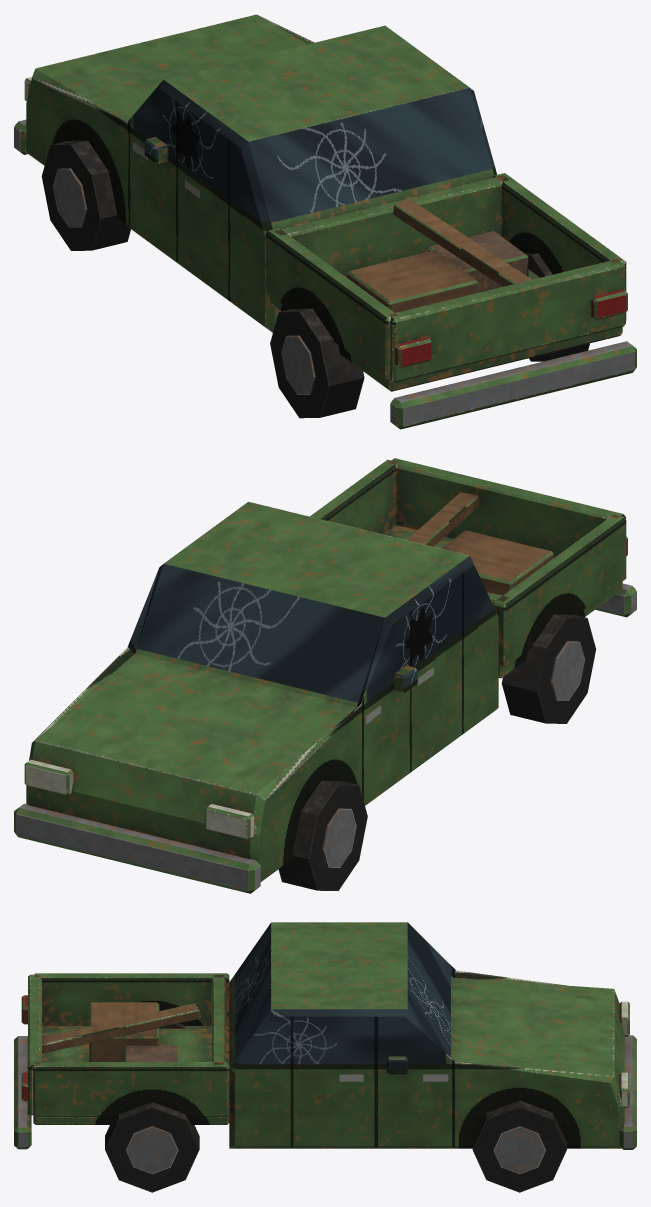
The model's file is Pickup_Abandonada.glb.
3 renders of one model, top to bottom at view 1: azimuth 30°, elevation 25°; view 2: azimuth 150°, elevation 25°; view 3: azimuth 270°, elevation 25°, orthographic. The views are drawn at different scales.
Visible parts, largest first — view 1: Pickup_Abandonada; view 2: Pickup_Abandonada; view 3: Pickup_Abandonada.
Part boxes in pixels (x1,y1,x2,y2): Pickup_Abandonada: (14, 14, 636, 429); Pickup_Abandonada: (14, 458, 636, 893); Pickup_Abandonada: (14, 922, 636, 1192).
Bounding box in the file's own units: 7.2 × 5.5 × 17.8.
1 material, 1 textured.
